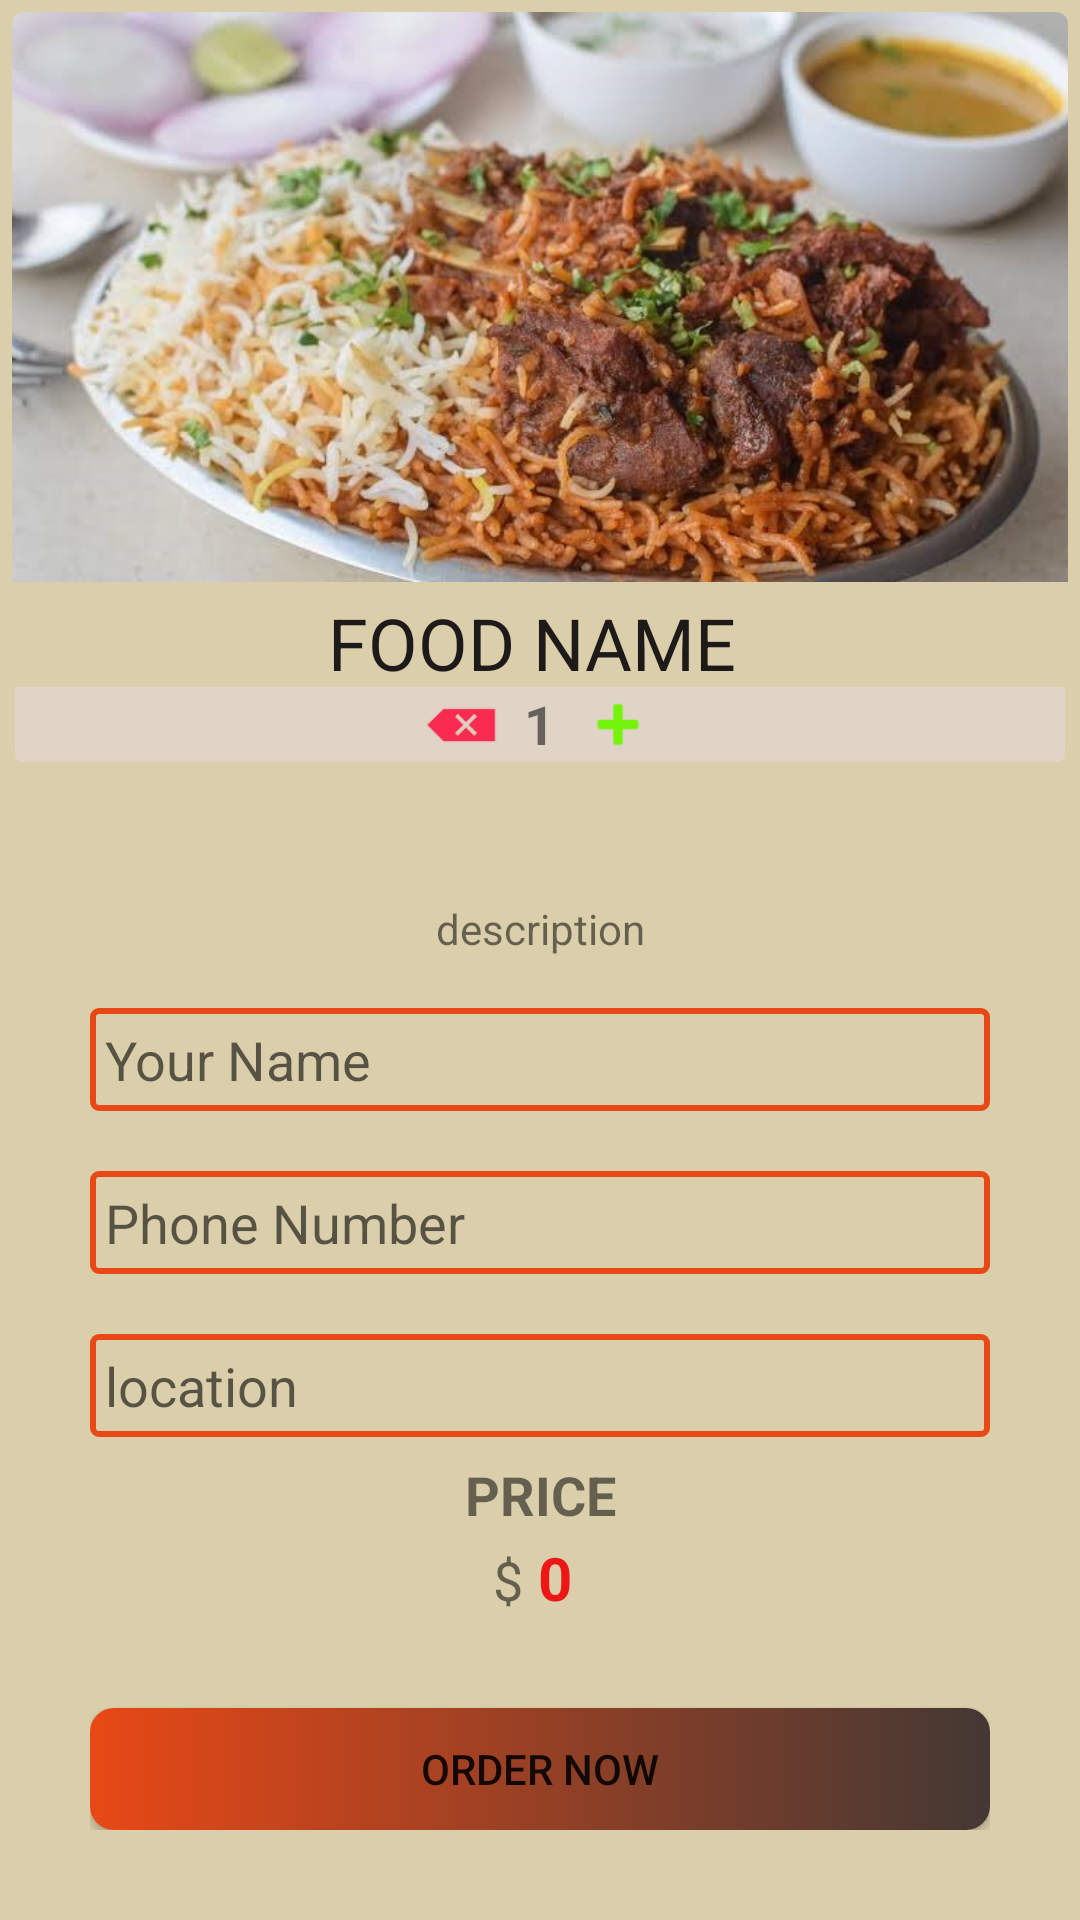

Icons on this 1080×1920 Android screen, each with its box as (x1, y1, x2, y2):
add: (597, 703, 639, 746)
delete: (427, 709, 496, 742)
